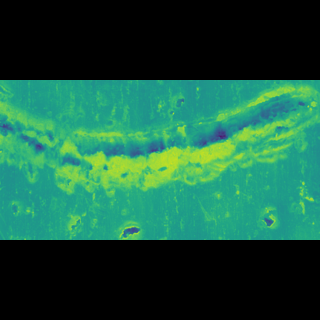Loch: (0, 121, 320, 178), (290, 160, 319, 188), (63, 181, 101, 198), (249, 181, 282, 198), (115, 190, 145, 199)
